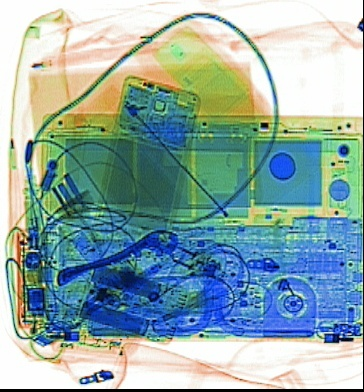powerbank: (78, 261, 189, 343)
